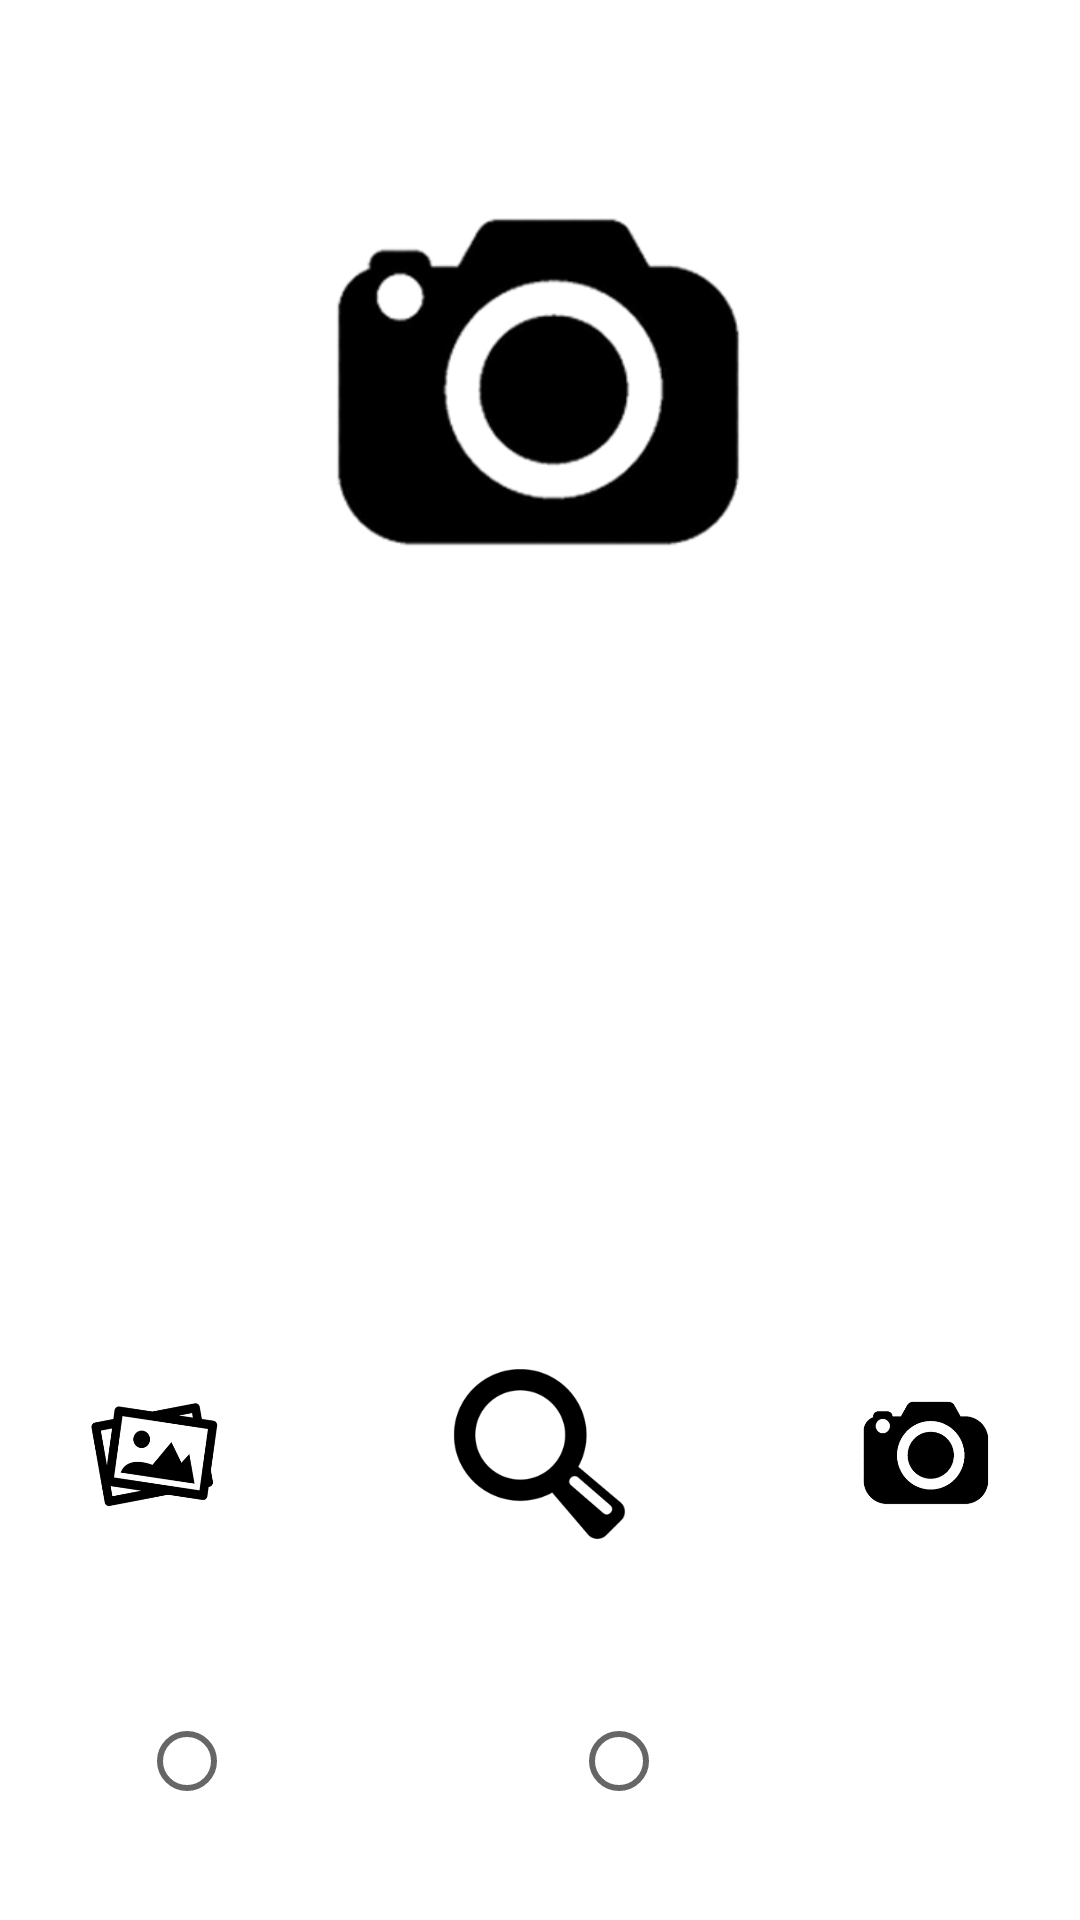

Icons on this 1080x1920 Android screen, each with its box as (x1, y1, x2, y2):
analysis: (454, 1369, 625, 1539)
cam: (863, 1401, 988, 1504)
galery: (91, 1403, 218, 1506)
